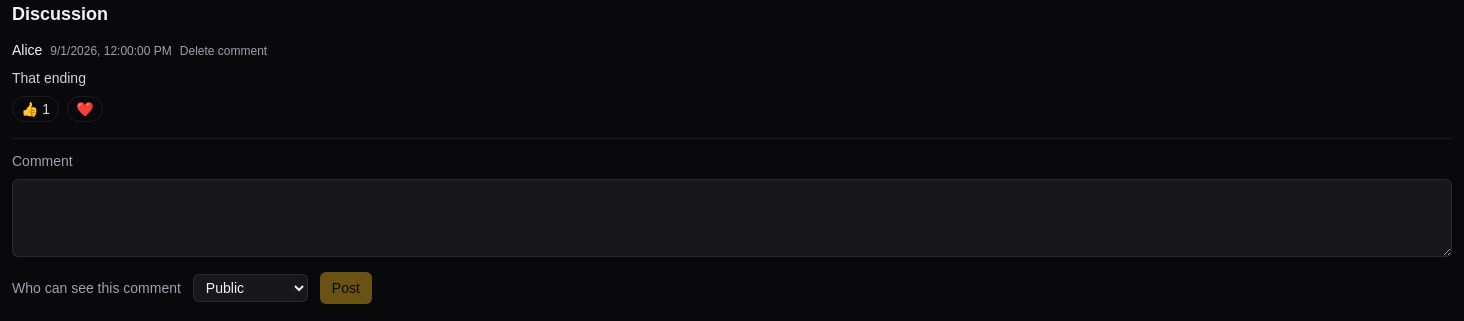
Test: EpisodeThread › posts a comment and toggles a reaction
This screenshot has width=1464, height=321.
Expected: the text "That ending" is shown, [12,70,86,86]
Type "Same" into the text box labelled "Comment" at (732, 218), box [12,179,1452,257]
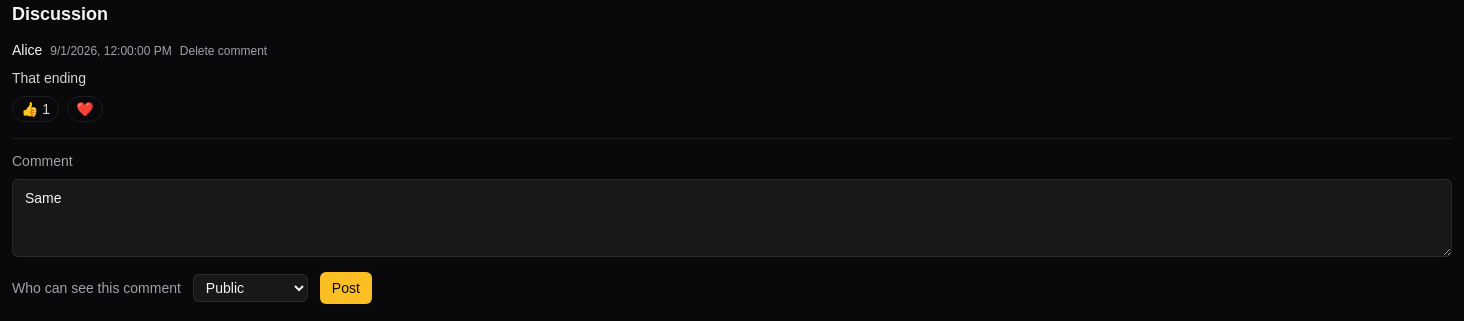
Click the button "Post" at (346, 288), box [320,272,372,304]
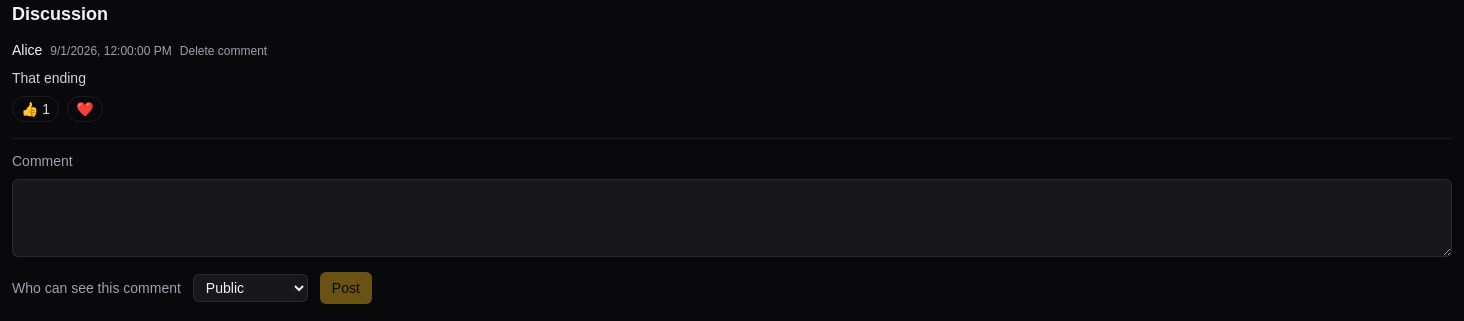
Click the button named "React with 👍" at (36, 109), box [12,96,59,122]
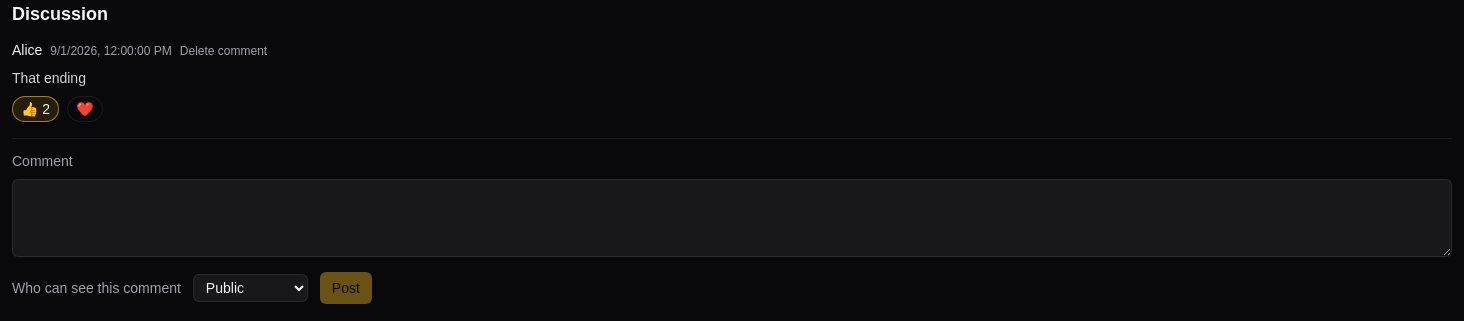
Expected: the button "👍 2" is shown, [12,96,59,122]
